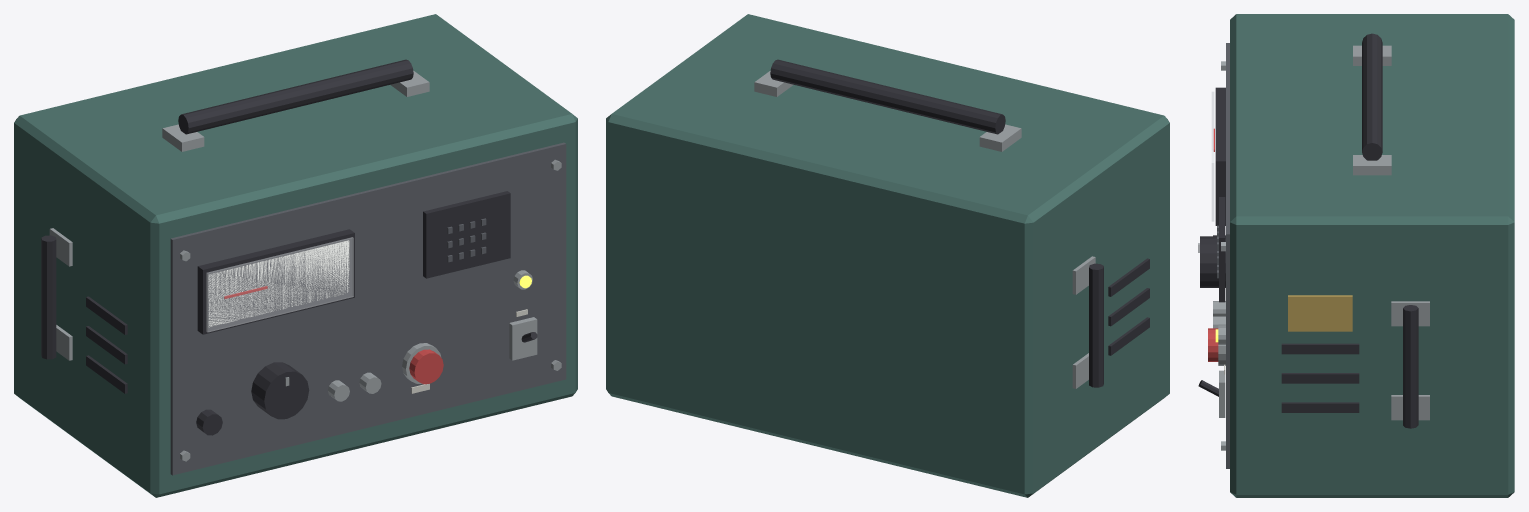
File: radio.fbx
3 renders of one model, left to right at view 1: azimuth 30°, elevation 25°; view 2: azimuth 150°, elevation 25°; view 3: azimuth 270°, elevation 25°, orthographic.
Visible parts, largest first — view 1: RadioBody, FrontPanel, DisplayHousing, DisplayGlass, SpeakerGrille, FrequencyScale, Radio_Top_Handle, FrequencyKnob, Radio_Side_Handle, PowerSwitchBase, PushToTalkCap, Radio_Top_HandleMount; view 2: RadioBody, Radio_Top_Handle, Radio_Side_Handle, Radio_Top_HandleMount; view 3: RadioBody, Radio_Top_Handle, Radio_SerialPlate, Radio_Side_Handle.001, FrontPanel, DisplayHousing, FrequencyKnob, Radio_Side_Vent.005, Radio_Side_Vent.003, Radio_Side_Vent.004, Radio_Top_HandleMount.001, Radio_Side_HandlePlate.003 (+4 smaller).
Part boxes in pixels (x1=…): RadioBody: x1=14, y1=14, x2=577, y2=497; FrontPanel: x1=170, y1=142, x2=566, y2=475; DisplayHousing: x1=197, y1=229, x2=354, y2=334; DisplayGlass: x1=206, y1=237, x2=353, y2=332; SpeakerGrille: x1=423, y1=191, x2=510, y2=278; FrequencyScale: x1=208, y1=240, x2=349, y2=327; Radio_Top_Handle: x1=178, y1=59, x2=413, y2=134; FrequencyKnob: x1=251, y1=362, x2=309, y2=419; Radio_Side_Handle: x1=41, y1=235, x2=56, y2=359; PowerSwitchBase: x1=509, y1=317, x2=537, y2=360; PushToTalkCap: x1=409, y1=349, x2=443, y2=384; Radio_Top_HandleMount: x1=162, y1=124, x2=204, y2=151; RadioBody: x1=606, y1=14, x2=1169, y2=497; Radio_Top_Handle: x1=770, y1=59, x2=1005, y2=134; Radio_Side_Handle: x1=1089, y1=263, x2=1103, y2=387; Radio_Top_HandleMount: x1=979, y1=124, x2=1021, y2=151; RadioBody: x1=1230, y1=14, x2=1514, y2=497; Radio_Top_Handle: x1=1362, y1=33, x2=1382, y2=160; Radio_SerialPlate: x1=1288, y1=295, x2=1352, y2=331; Radio_Side_Handle.001: x1=1403, y1=305, x2=1418, y2=428; FrontPanel: x1=1221, y1=43, x2=1229, y2=468; DisplayHousing: x1=1215, y1=87, x2=1225, y2=225; FrequencyKnob: x1=1200, y1=236, x2=1225, y2=287; Radio_Side_Vent.005: x1=1281, y1=343, x2=1359, y2=354; Radio_Side_Vent.003: x1=1281, y1=402, x2=1359, y2=412; Radio_Side_Vent.004: x1=1281, y1=373, x2=1359, y2=383; Radio_Top_HandleMount.001: x1=1353, y1=155, x2=1391, y2=175; Radio_Side_HandlePlate.003: x1=1391, y1=301, x2=1429, y2=326.
Bounding box in the file's own units: 41.69 × 26.3 × 24.44.
